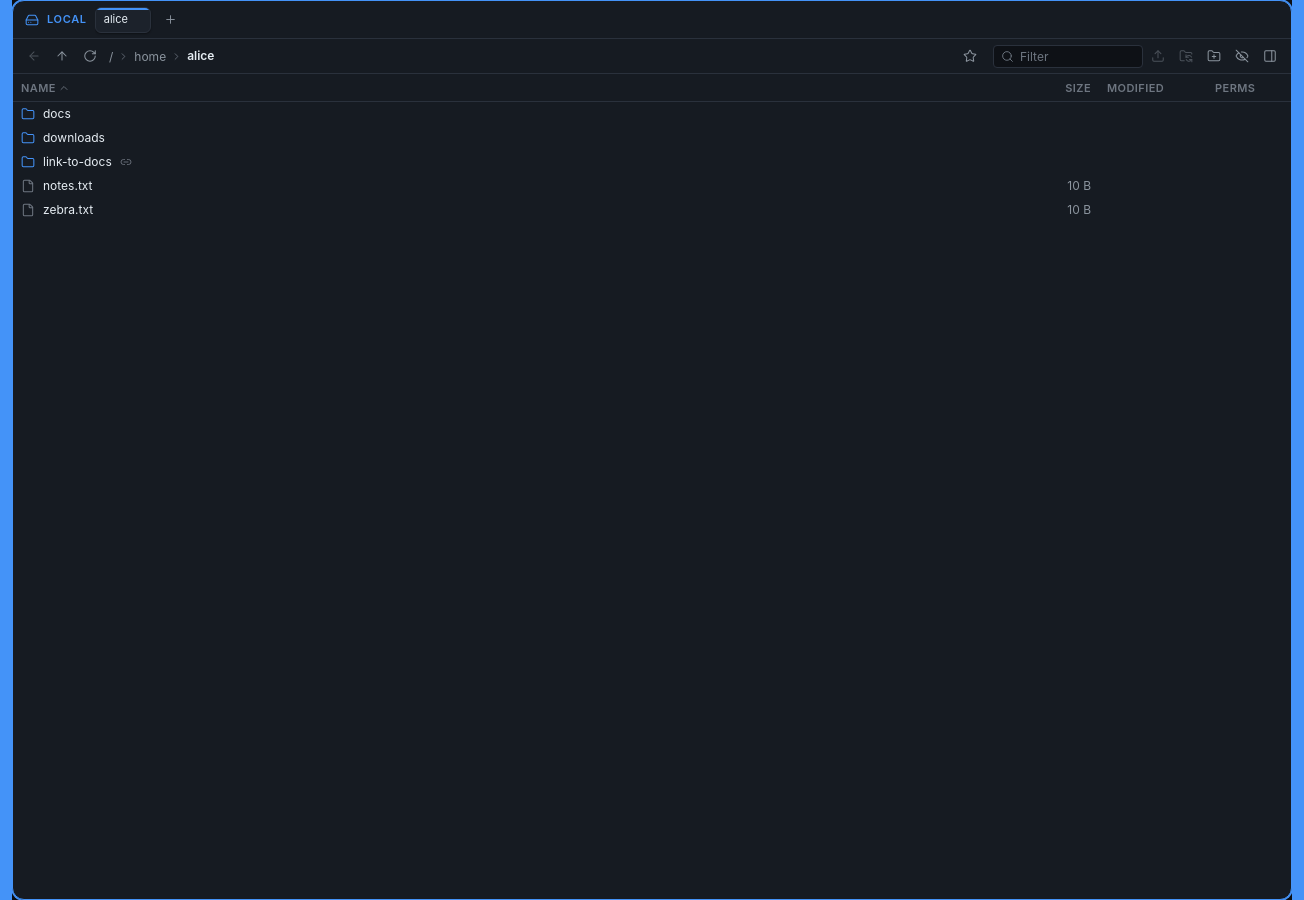
Test: opening the field › opens with a click on the empty part of the breadcrumb bar
The image size is (1304, 900).
Check: the table is shown, box left=13, top=74, right=1291, bottom=217
// A segment still navigates instead.
Click the button "home": (150, 56) left=130, top=48, right=170, bottom=64
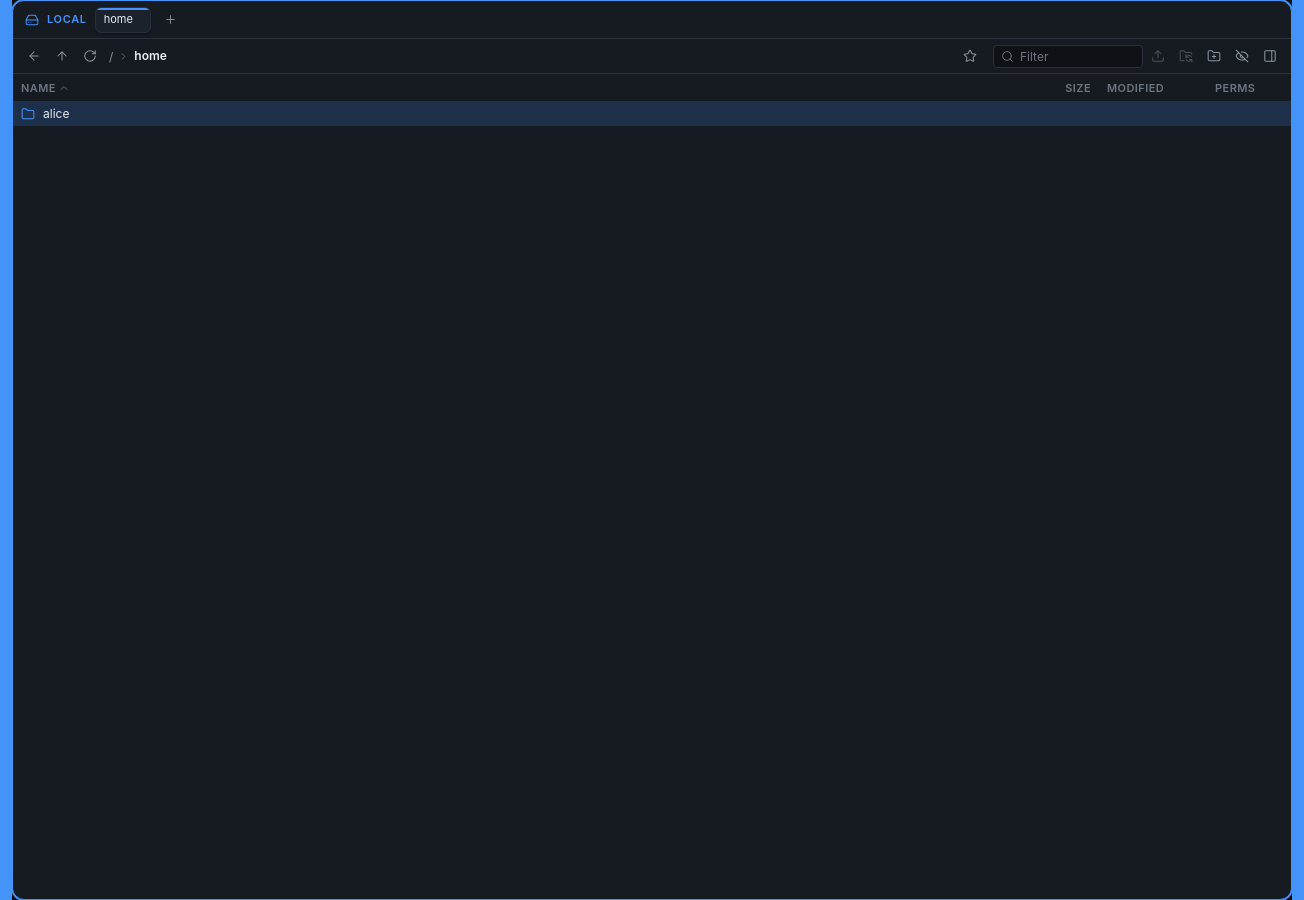
Click the navigation bar named "Path": (136, 56) left=105, top=48, right=167, bottom=64
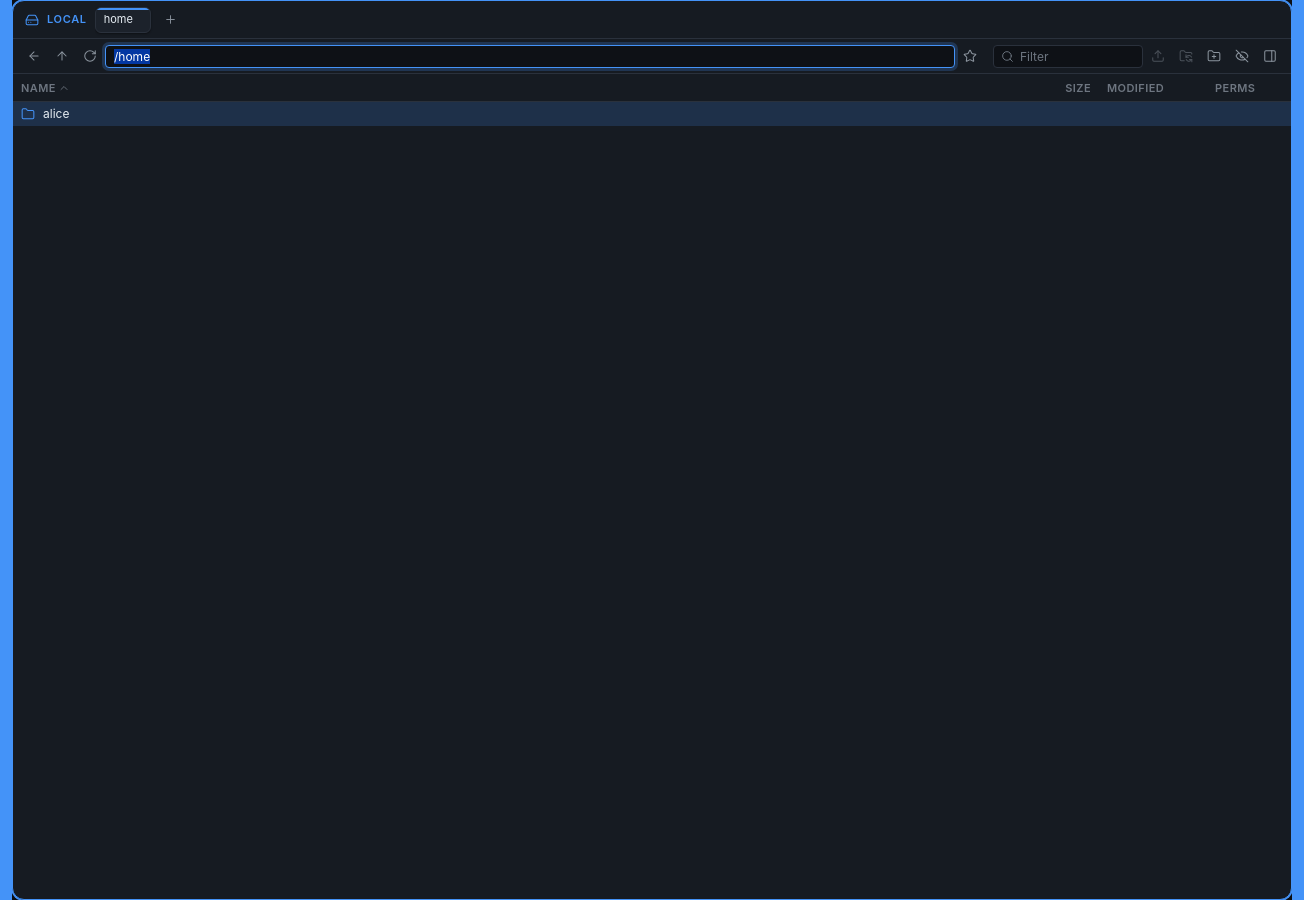
Check: the field named "Go to path" holds "/home", box left=105, top=44, right=955, bottom=68
